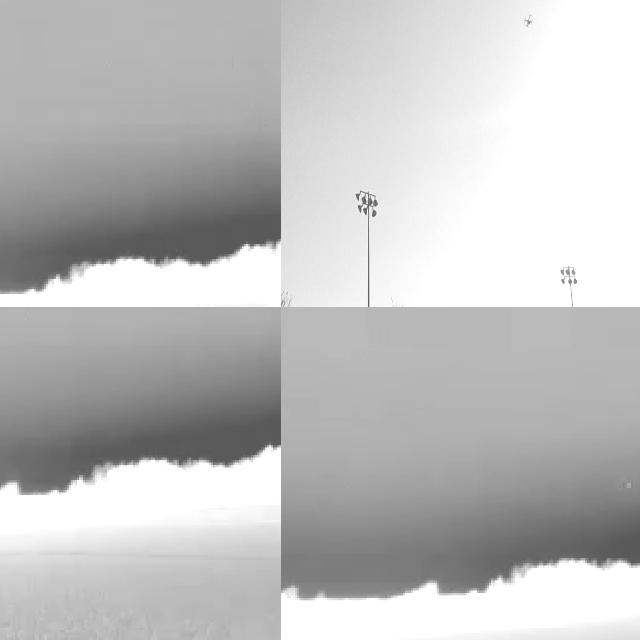0: (611, 470, 640, 507)
drone: (520, 6, 537, 30)
